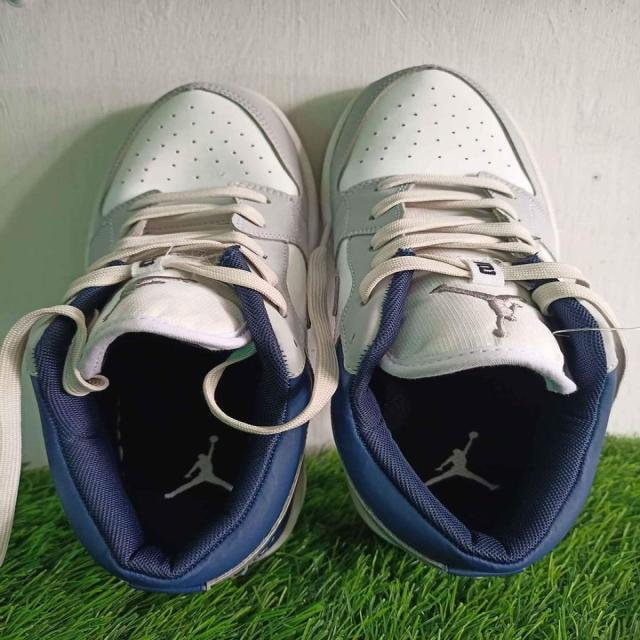nike fake jordan 1: (324, 63, 626, 582), (29, 80, 327, 590)
